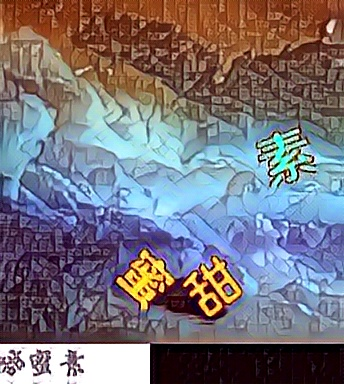C3DB: (115, 247, 178, 313)
CBD8: (257, 124, 320, 190)
CCF0: (182, 252, 245, 318)
